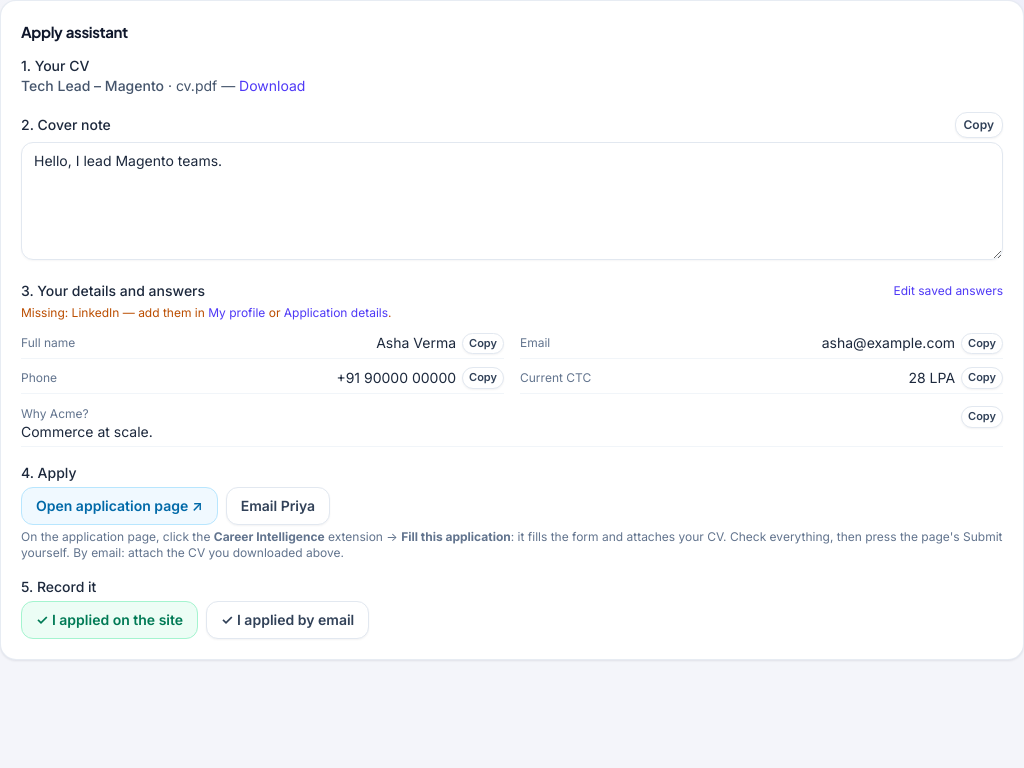
Test case: Apply assistant › lays out the CV, cover note, details and answers, the ways to apply, and records it
This screenshot has width=1024, height=768.
Expected: the text box named "Cover note" holds "Hello, I lead Magento teams.", [21, 142, 1003, 260]
Expected: the element named "Your details" shows "Asha Verma", [376, 334, 456, 351]
Click the button "✓ I applied on the site": x=110, y=620 [21, 601, 198, 639]
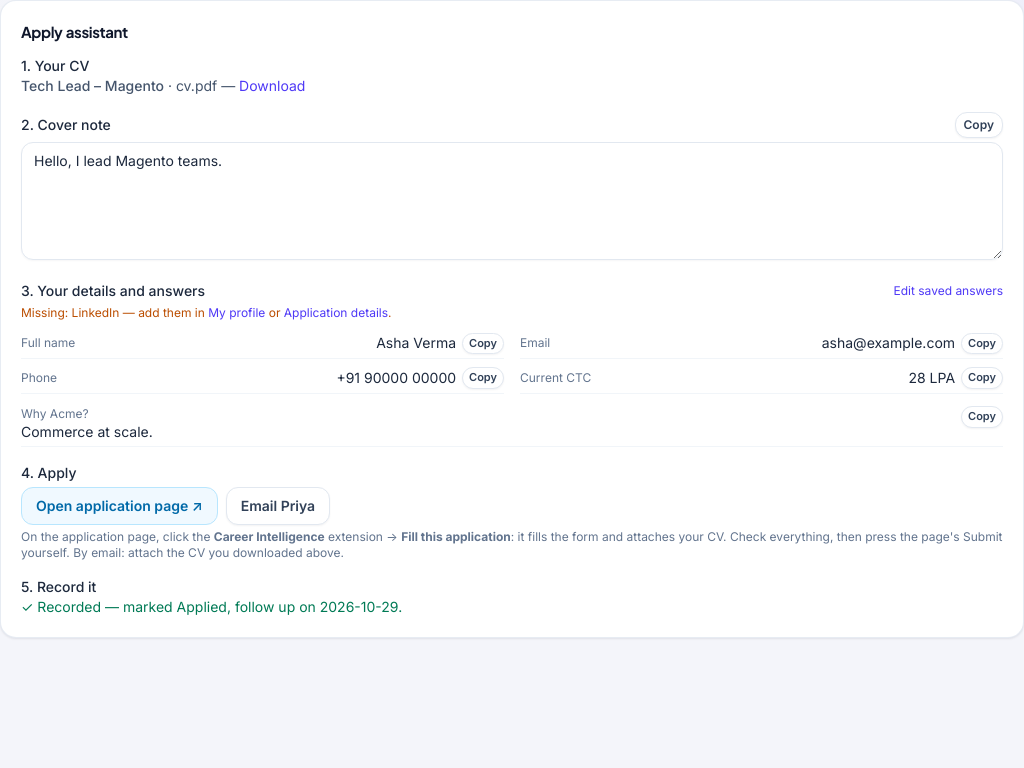
Now the text "✓ Recorded — marked Applied, follow up on 2026-10-29." is shown, box [21, 598, 402, 615]
